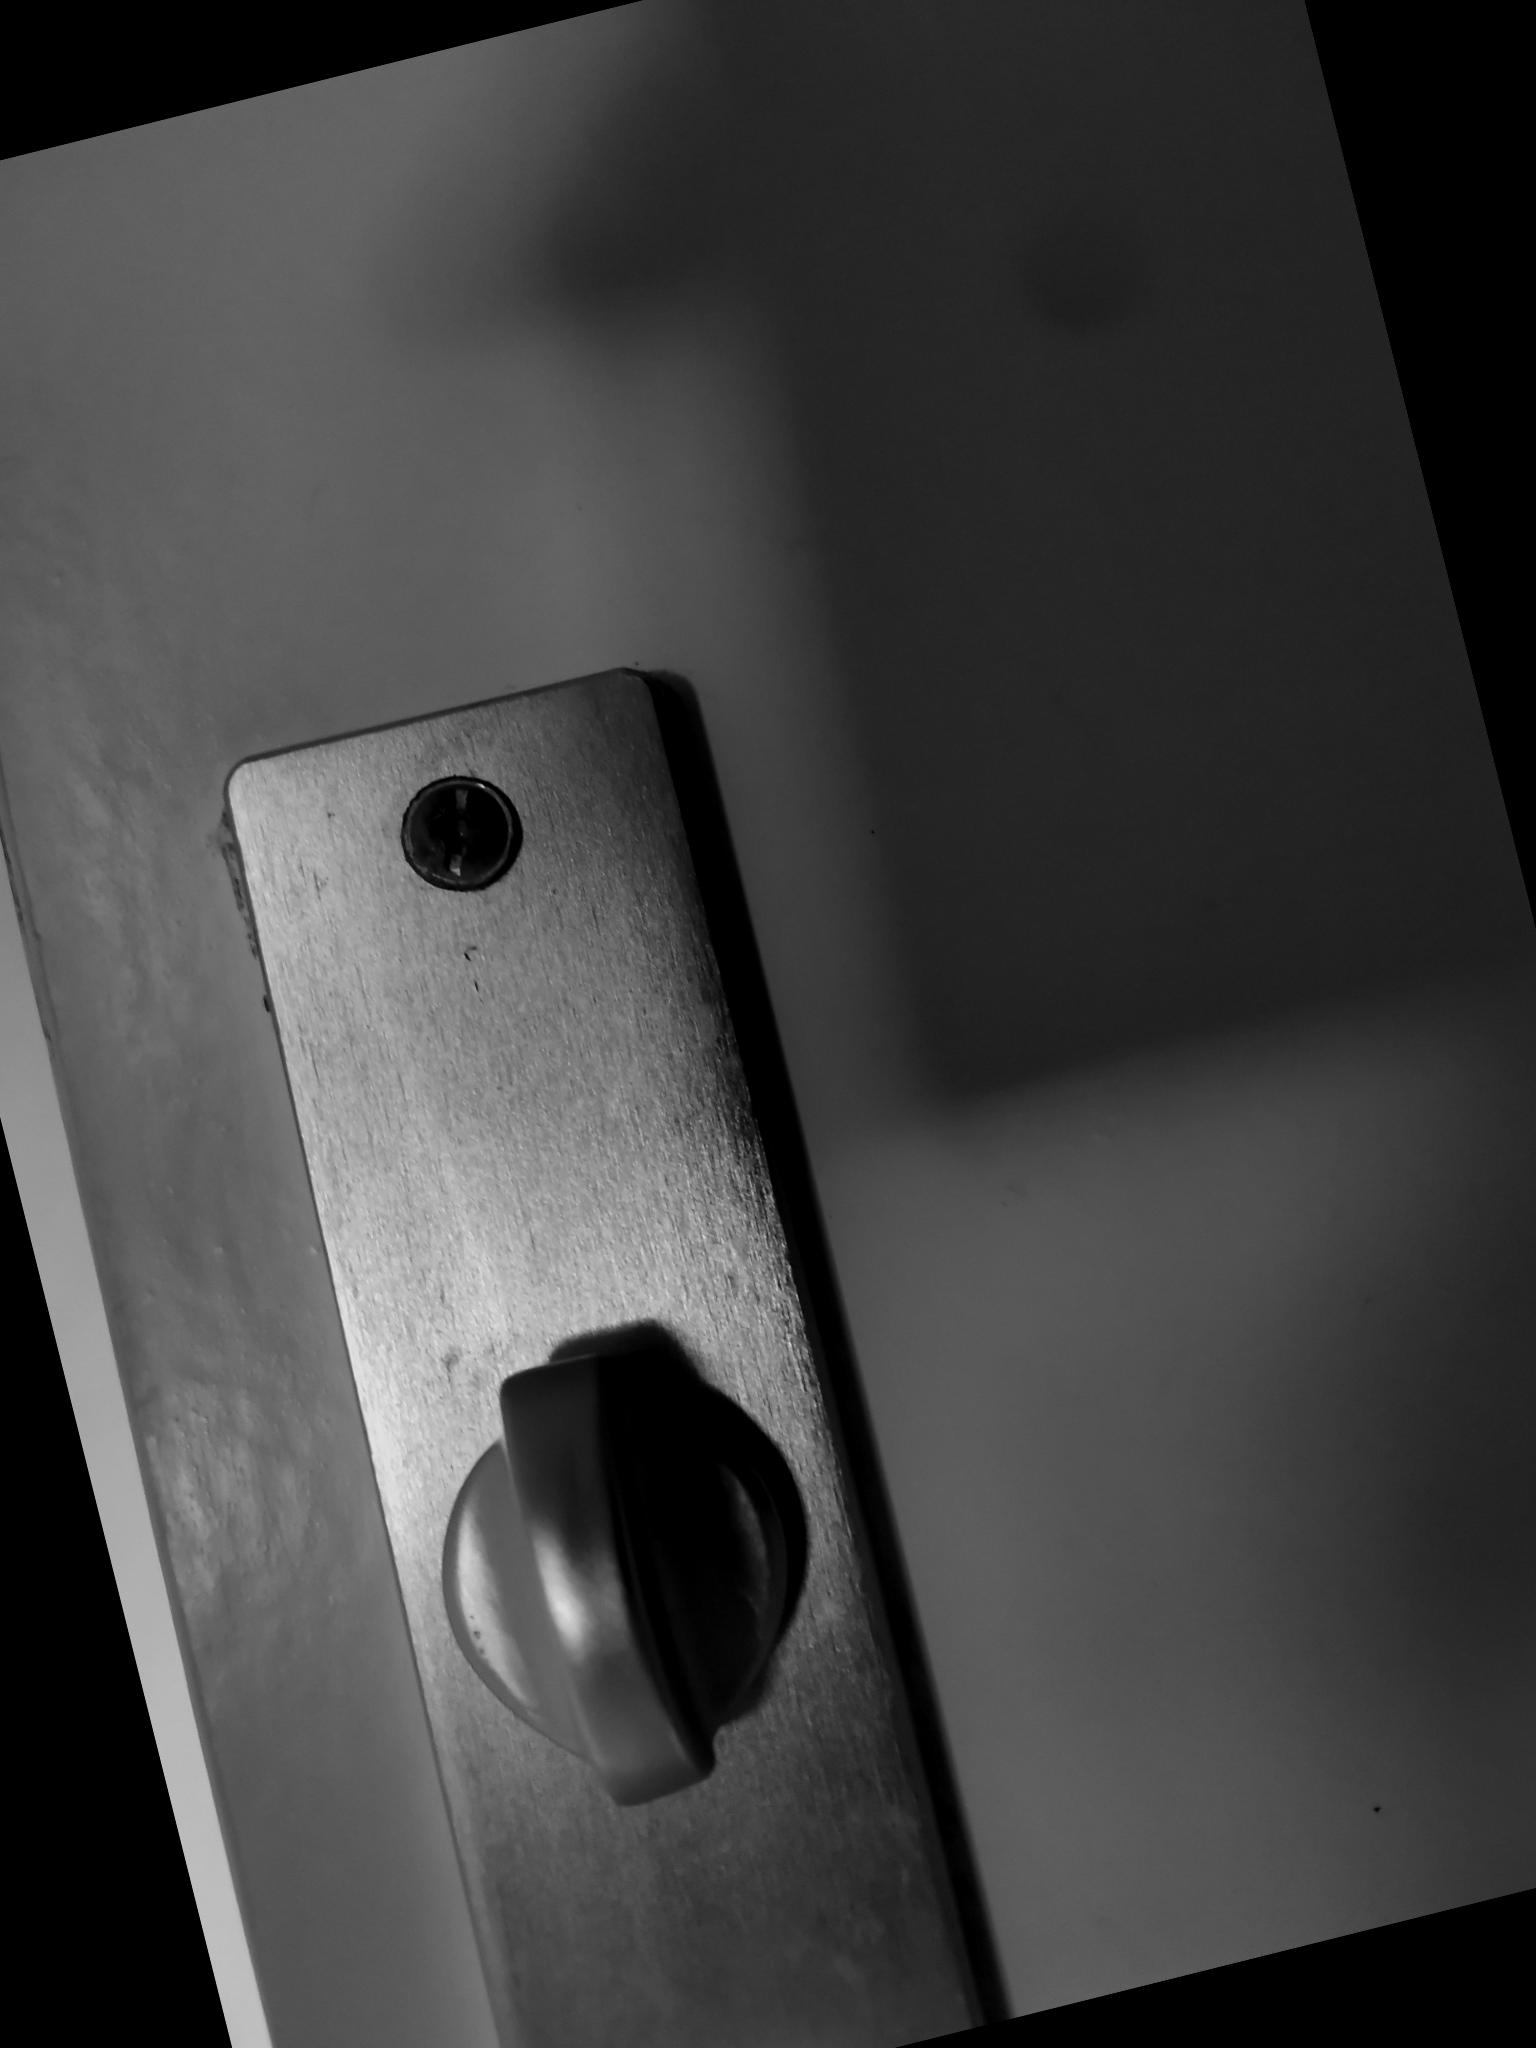screw: (378, 753, 545, 916)
